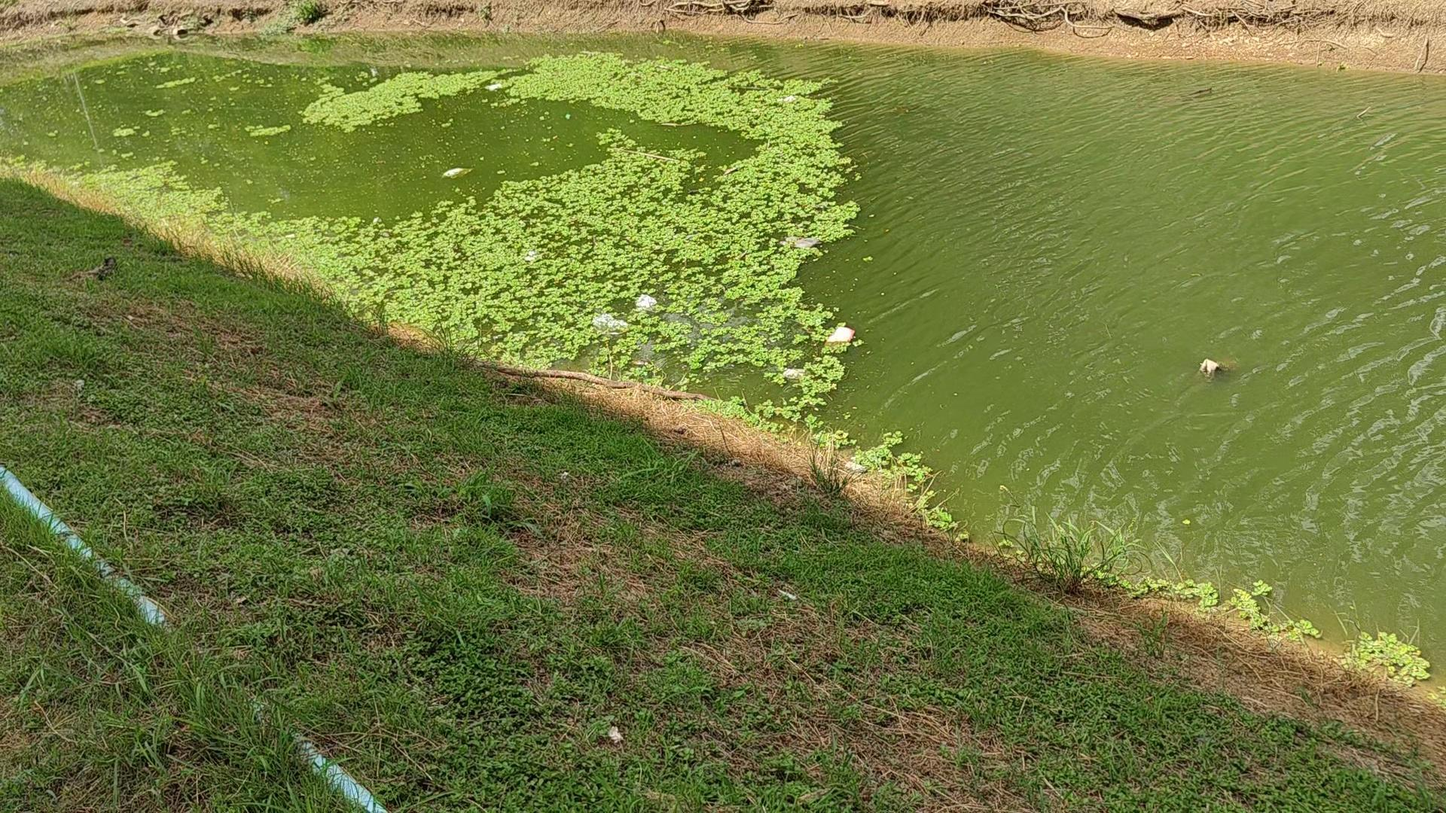trash: (593, 313, 627, 331), (827, 325, 854, 344), (780, 237, 821, 248), (1200, 358, 1221, 376), (636, 294, 657, 309), (845, 460, 866, 473), (782, 368, 804, 380), (444, 167, 470, 177), (525, 250, 538, 261), (486, 82, 502, 90), (780, 95, 798, 102)
